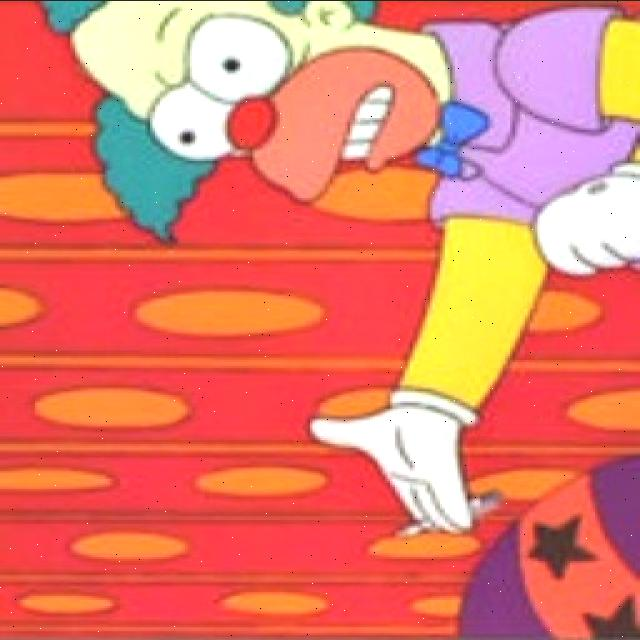Krusty the Clown: (25, 0, 480, 238)
